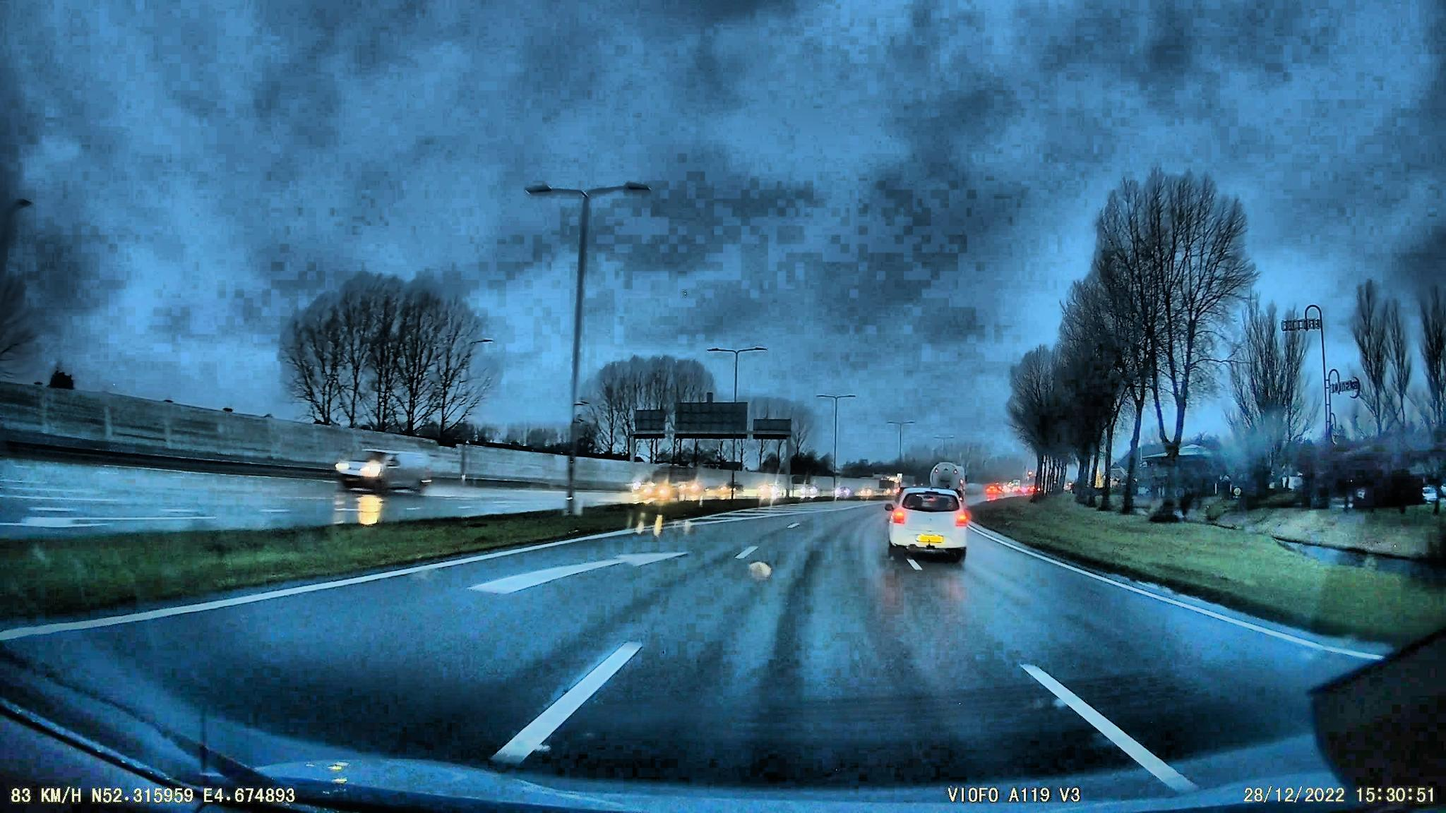Roads: (0, 502, 1375, 813)
